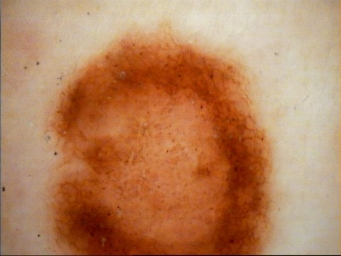nevus: (51, 37, 272, 256)
